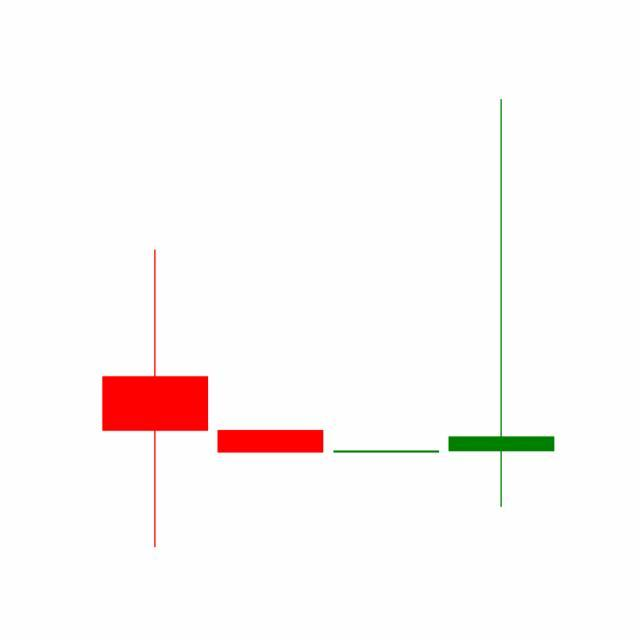Spinning Top: (444, 96, 560, 513)
